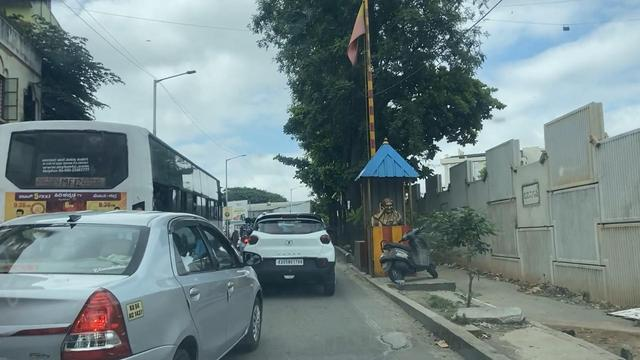LMV: (253, 217, 331, 296)
RoadDamages: (374, 319, 415, 360)
